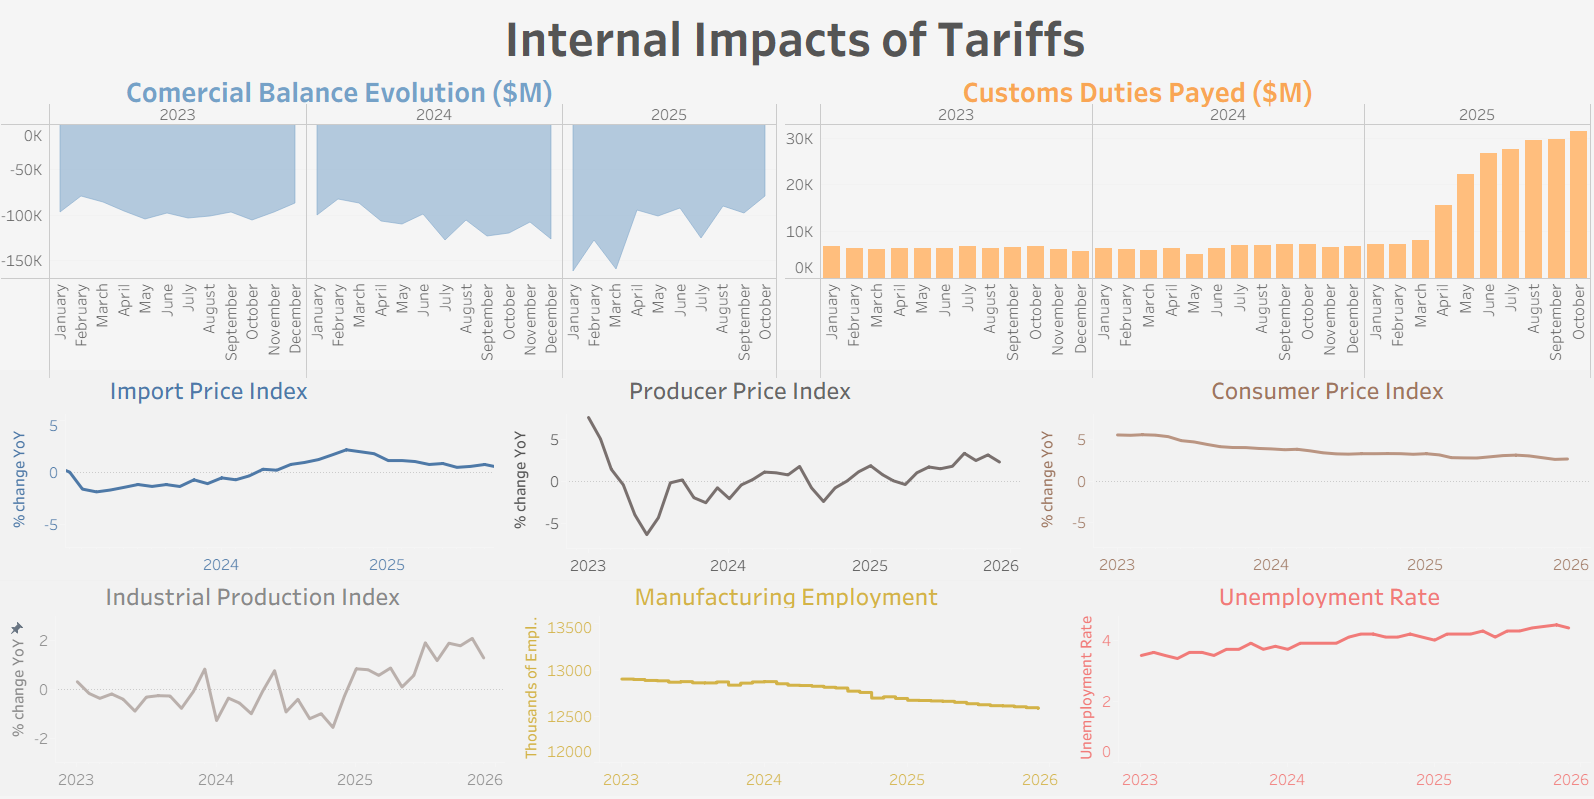

The dashboard page shown, as its layout file describes it:
{"tool":"tableau","page":{"name":"Impacts: Internal","canvas":[1000,1000],"units":"permille","ordinal":1},"visuals":[{"type":"text","box":[1.6,2.2,996.1,94.2]},{"type":"text","box":[1.6,92,533.6,40]},{"type":"text","box":[535.1,92,463.3,40]},{"type":"worksheet","title":"Int_imp: Balance","mark":"Area","rows":["Balance"],"cols":["YearMonth"],"box":[0.8,128.8,539.9,251.1]},{"type":"worksheet","title":"Int_imp: Customs Duties","mark":"Bar","rows":["Customs Duties"],"cols":["YearMonth","YearMonth"],"box":[540.6,128.8,458.6,251.1]},{"type":"text","box":[1.6,378.8,330.5,43.3]},{"type":"text","box":[332,378.8,332.8,43.3]},{"type":"text","box":[664.8,378.8,333.6,43.3]},{"type":"worksheet","title":"Int_imp:Price Imp","mark":"Automatic","rows":["Imp_Price"],"cols":["YearMonth"],"box":[1.6,422.1,328.9,239.2]},{"type":"worksheet","title":"Int_imp: Prod Price","mark":"Automatic","rows":["Prod_Price"],"cols":["YearMonth"],"box":[330.5,422.1,334.4,239.2]},{"type":"worksheet","title":"Int_imp:Price Cons","mark":"Automatic","rows":["Cons_Price"],"cols":["YearMonth"],"box":[664.9,422.1,333.6,239.2]},{"type":"text","box":[0.8,662.3,320.3,34.6]},{"type":"text","box":[321.1,662.3,346.1,34.6]},{"type":"text","box":[667.2,662.3,331.2,34.6]},{"type":"worksheet","title":"Int_imp: Ind Prod","mark":"Automatic","rows":["Ind_Prod"],"cols":["YearMonth"],"box":[0.8,697,320.3,300.9]},{"type":"worksheet","title":"Int_imp: Empl Man","mark":"Automatic","rows":["EmpManuf"],"cols":["YearMonth"],"box":[321.1,697,346.1,300.9]},{"type":"worksheet","title":"Int_imp: Unemp","mark":"Automatic","rows":["Unemployment rate"],"cols":["YearMonth"],"box":[667.2,697,331.2,300.9]}]}

Visuals, with their boxes on the dashboard's canvas, which has no fixed pixel size, in thousandths of its width and height (x1, y1, x2, y2). These are canvas units, not pixel positions in the 1594x799 screenshot, which may show the page scaled, cropped or inside an application window:
text: crop(2, 2, 998, 96)
text: crop(2, 92, 535, 132)
text: crop(535, 92, 998, 132)
"Int_imp: Balance" worksheet (Area marks): crop(1, 129, 541, 380)
"Int_imp: Customs Duties" worksheet (Bar marks): crop(541, 129, 999, 380)
text: crop(2, 379, 332, 422)
text: crop(332, 379, 665, 422)
text: crop(665, 379, 998, 422)
"Int_imp:Price Imp" worksheet: crop(2, 422, 330, 661)
"Int_imp: Prod Price" worksheet: crop(330, 422, 665, 661)
"Int_imp:Price Cons" worksheet: crop(665, 422, 998, 661)
text: crop(1, 662, 321, 697)
text: crop(321, 662, 667, 697)
text: crop(667, 662, 998, 697)
"Int_imp: Ind Prod" worksheet: crop(1, 697, 321, 998)
"Int_imp: Empl Man" worksheet: crop(321, 697, 667, 998)
"Int_imp: Unemp" worksheet: crop(667, 697, 998, 998)
